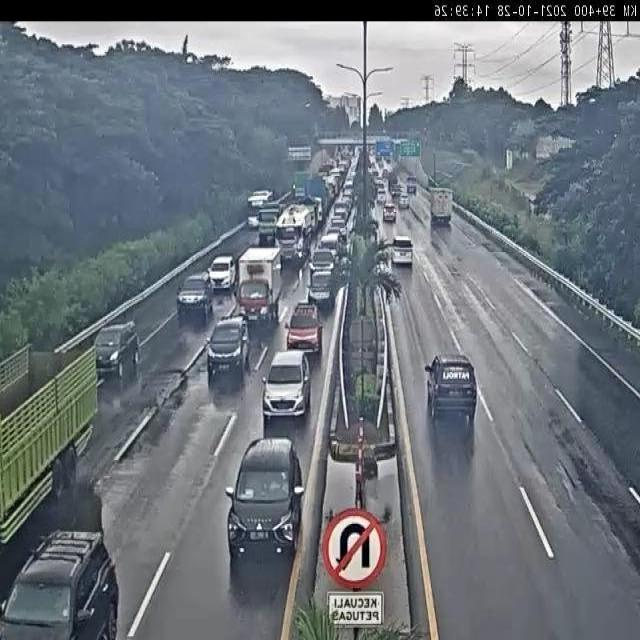Bus: (246, 190, 274, 230)
Car: (0, 528, 121, 640), (226, 436, 306, 567), (262, 346, 314, 424), (423, 354, 478, 422), (207, 317, 250, 386), (95, 320, 140, 385), (176, 273, 213, 326), (286, 303, 323, 355), (308, 270, 334, 312), (208, 255, 236, 291), (310, 248, 336, 280), (391, 236, 414, 266), (319, 232, 342, 260), (326, 226, 344, 248), (332, 218, 348, 242), (334, 201, 349, 222), (382, 202, 397, 222), (340, 192, 352, 211), (390, 184, 402, 198), (329, 215, 343, 227), (399, 193, 409, 209)
Truck: (0, 341, 98, 543), (237, 246, 282, 327), (272, 203, 312, 266), (257, 202, 289, 246), (303, 176, 329, 223), (430, 188, 452, 225), (293, 169, 311, 202), (406, 176, 417, 193)
Van: (376, 188, 386, 204)
